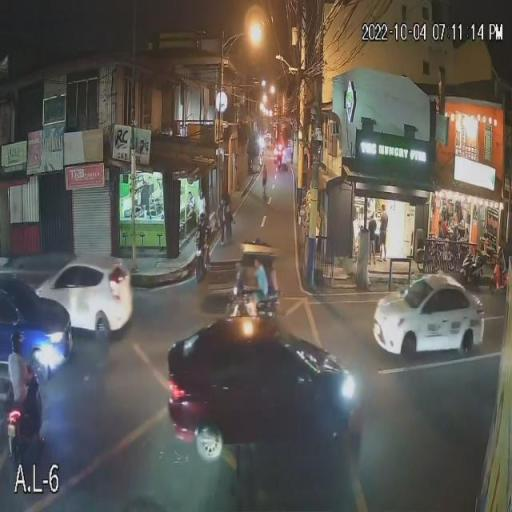helmet: (198, 212, 209, 227)
motorcycle: (192, 239, 214, 277)
rider: (194, 206, 211, 249)
